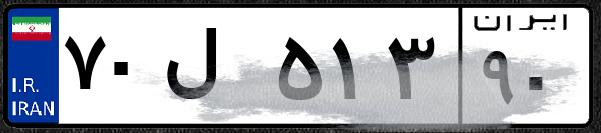0: (525, 38, 570, 115), (110, 28, 158, 98)
1: (330, 28, 385, 110)
3: (385, 28, 445, 110)
5: (270, 28, 330, 110)
7: (57, 26, 110, 100)
9: (475, 38, 525, 113)
ل: (158, 20, 270, 120)
